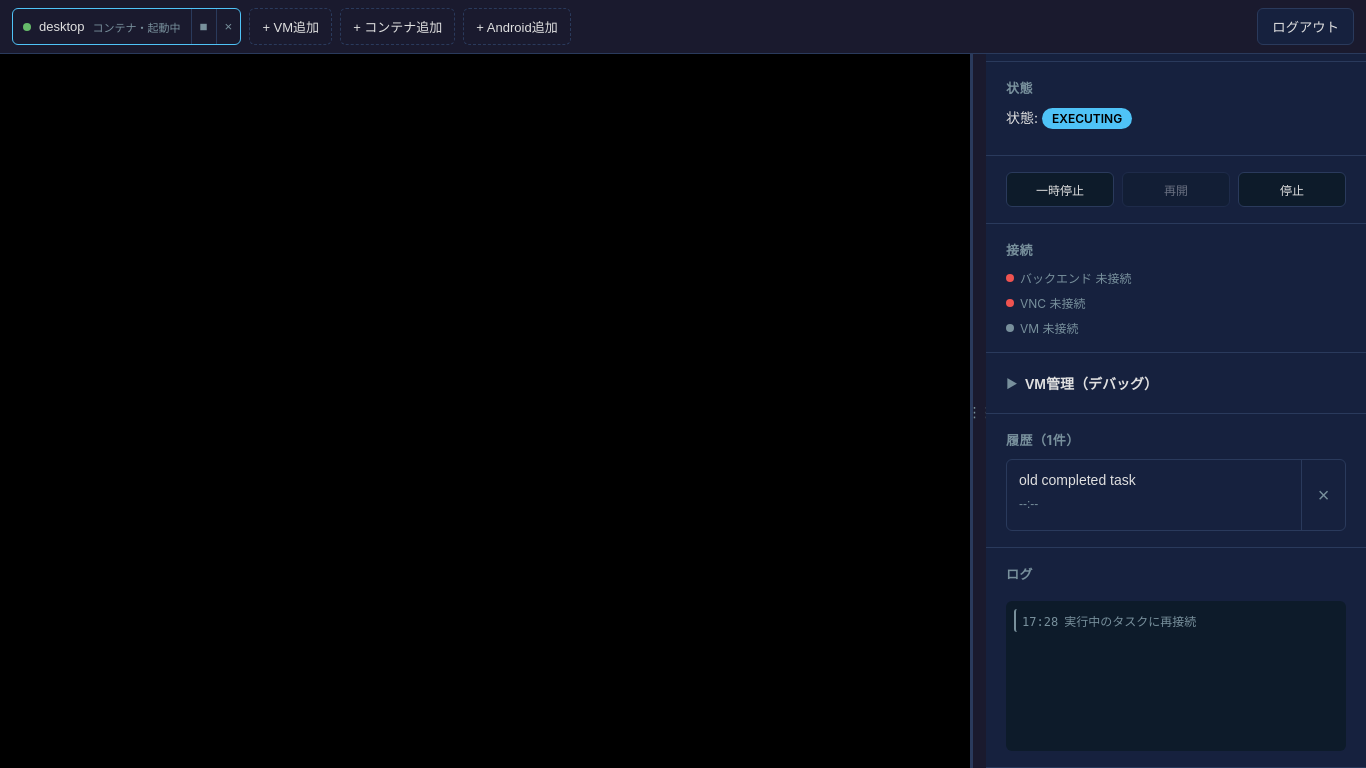
Test: a delayed control refresh cannot introduce an old backend that was never observed
(page scrolled)
Click the button "停止": (1292, 190) [1238,172,1346,207]
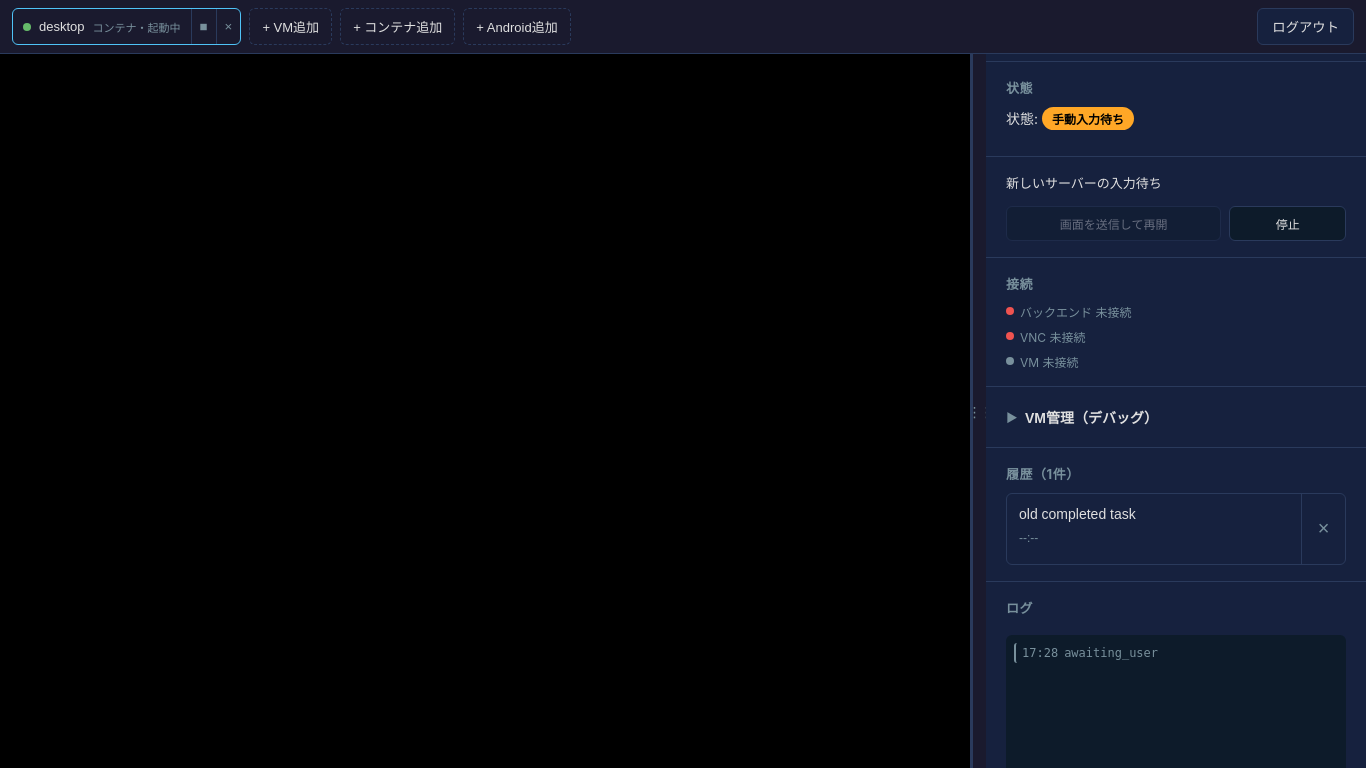
Expected: the button "画面を送信して再開" is disabled, [1006,206,1221,241]
Now the text "新しいサーバーの入力待ち" is shown, box [1006,175,1162,191]
